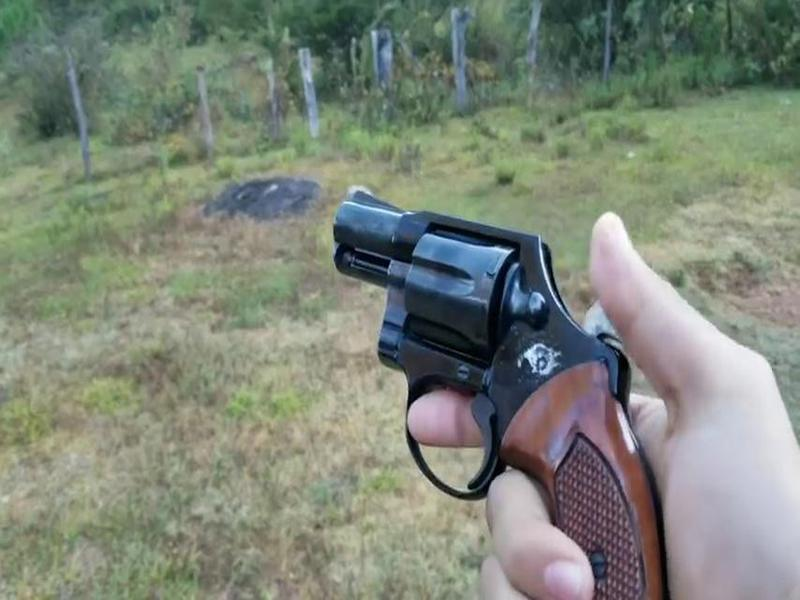Revolver: (327, 168, 698, 600)
